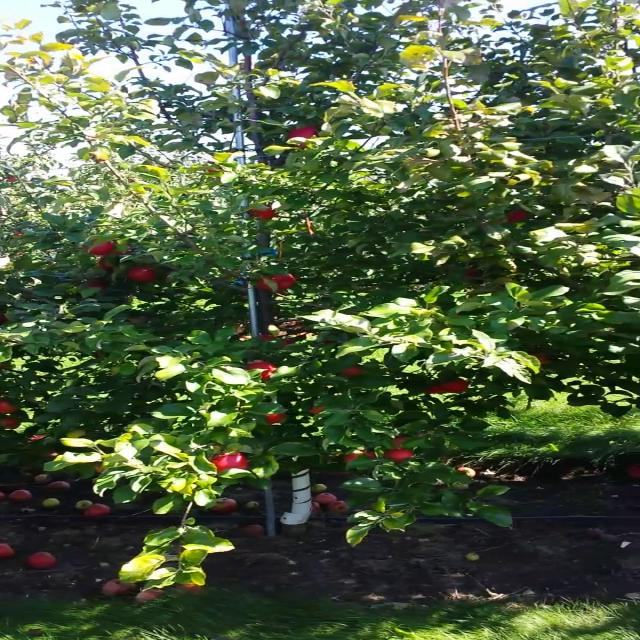apple: (383, 437, 416, 462), (254, 272, 294, 290), (210, 454, 246, 474), (286, 128, 316, 148), (247, 361, 277, 379), (127, 266, 156, 282), (82, 240, 114, 254), (246, 206, 276, 220), (530, 348, 554, 364), (344, 451, 380, 461), (442, 381, 469, 393), (74, 278, 106, 288), (463, 267, 485, 281), (0, 400, 20, 414), (0, 416, 21, 429), (508, 210, 530, 222), (265, 413, 288, 424), (98, 256, 114, 270), (256, 333, 276, 342), (423, 387, 453, 393), (304, 407, 324, 415), (340, 367, 362, 374)
